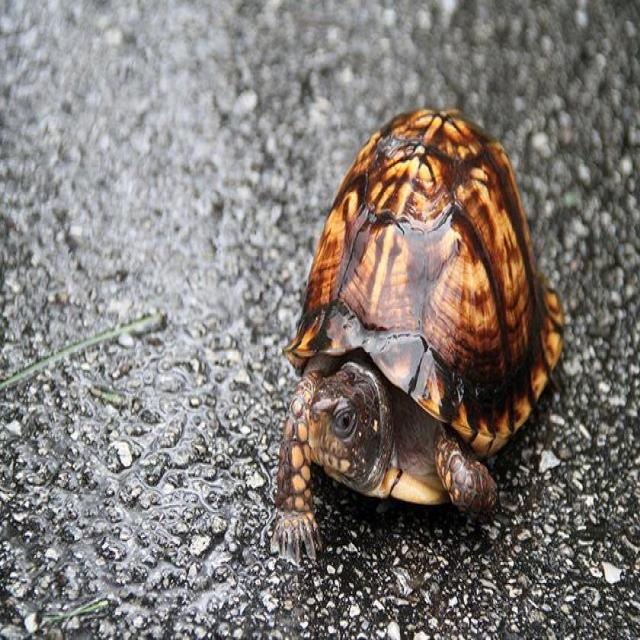turtle: (281, 248, 502, 528)
